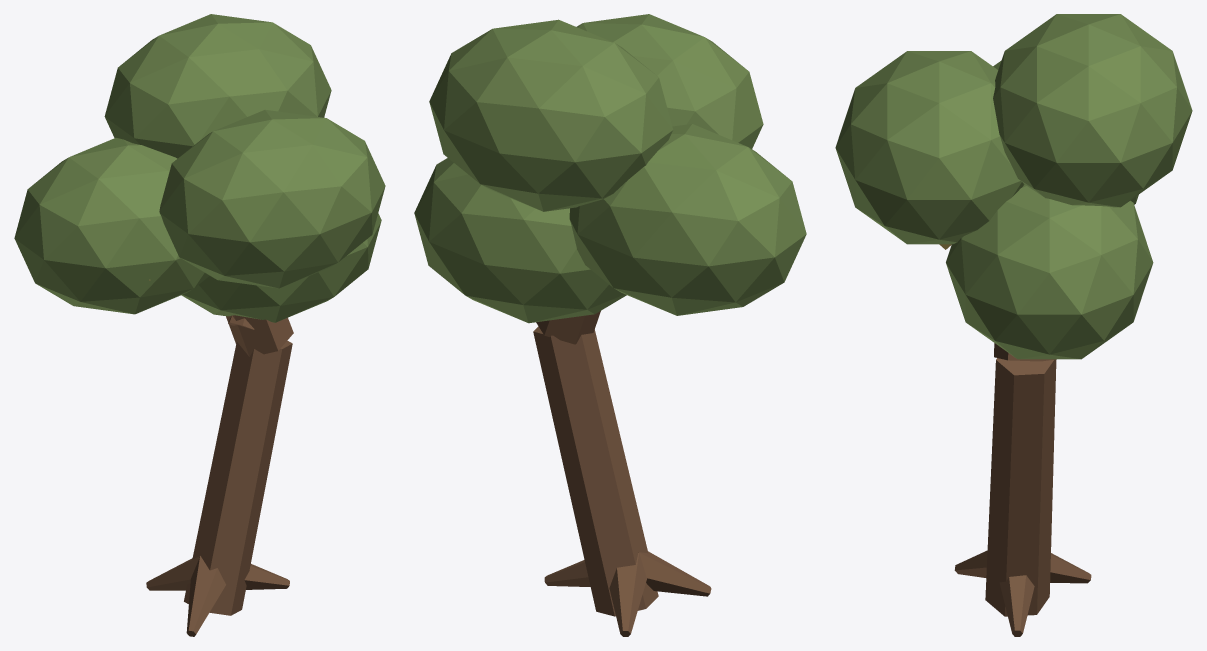
Rendered from map-boundaries-v5__farm_02.glb.
3 views of the same model, side by side, from view 1: azimuth 30°, elevation 25°; view 2: azimuth 150°, elevation 25°; view 3: azimuth 270°, elevation 25° (orthographic). The views are drawn at different scales.
Parts seen in each view (by area): view 1: farm_02; view 2: farm_02; view 3: farm_02.
Part boxes in pixels (x1,y1,x2,y2): farm_02: [14, 14, 385, 636]; farm_02: [414, 14, 806, 636]; farm_02: [835, 14, 1192, 636].
Size of the model in its own units: 1.95 by 3.06 by 1.65.
